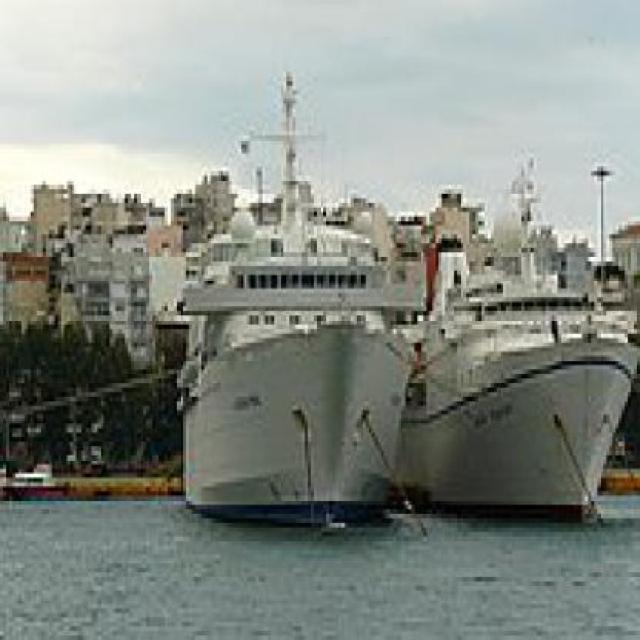cruise: (165, 55, 431, 533), (382, 145, 639, 537)
